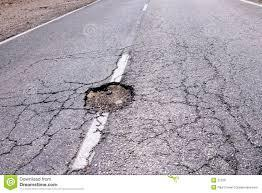alligator-crack: (155, 54, 262, 174), (31, 81, 83, 112)
crack: (12, 112, 61, 174), (66, 115, 98, 172), (78, 119, 110, 172), (0, 135, 43, 158), (5, 104, 30, 143)
pothole: (83, 81, 137, 116)
